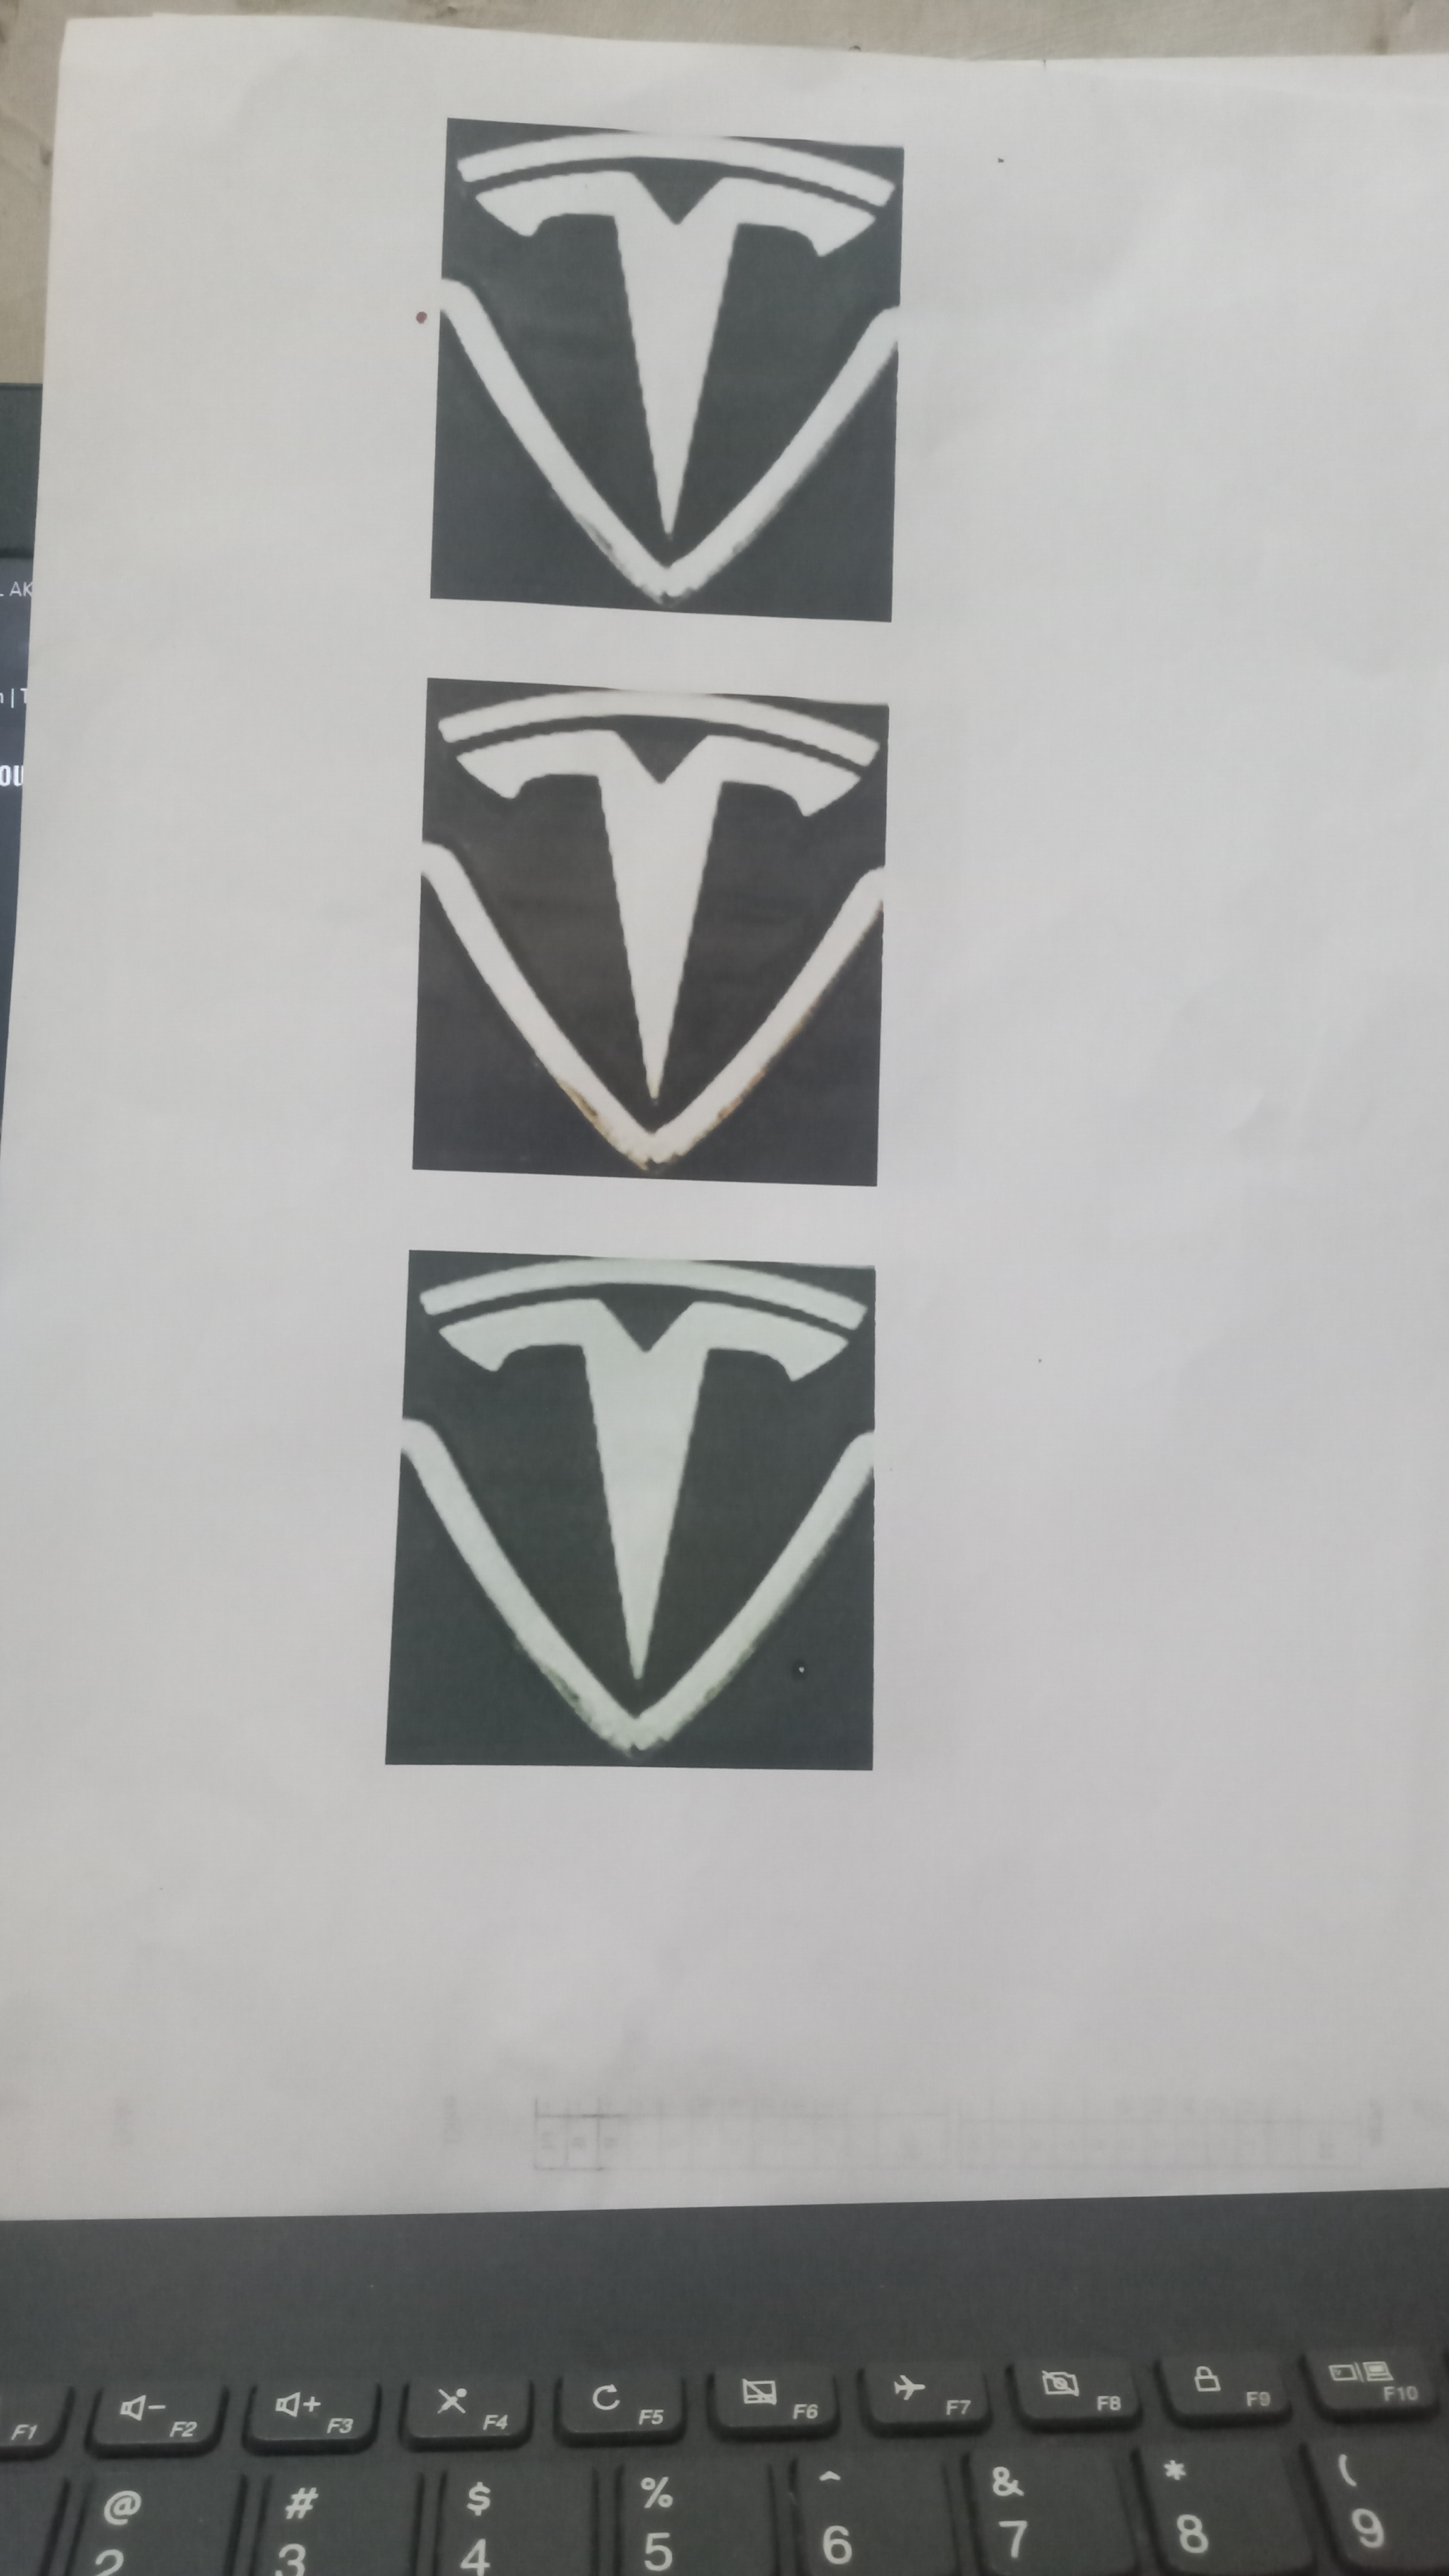Tesla: (402, 1254, 883, 1753), (421, 674, 886, 1184), (435, 122, 913, 607)
